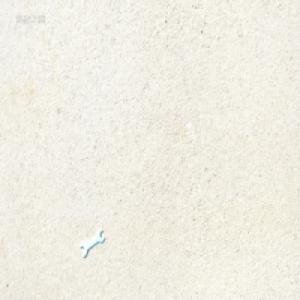Wrench: (80, 229, 105, 258)
